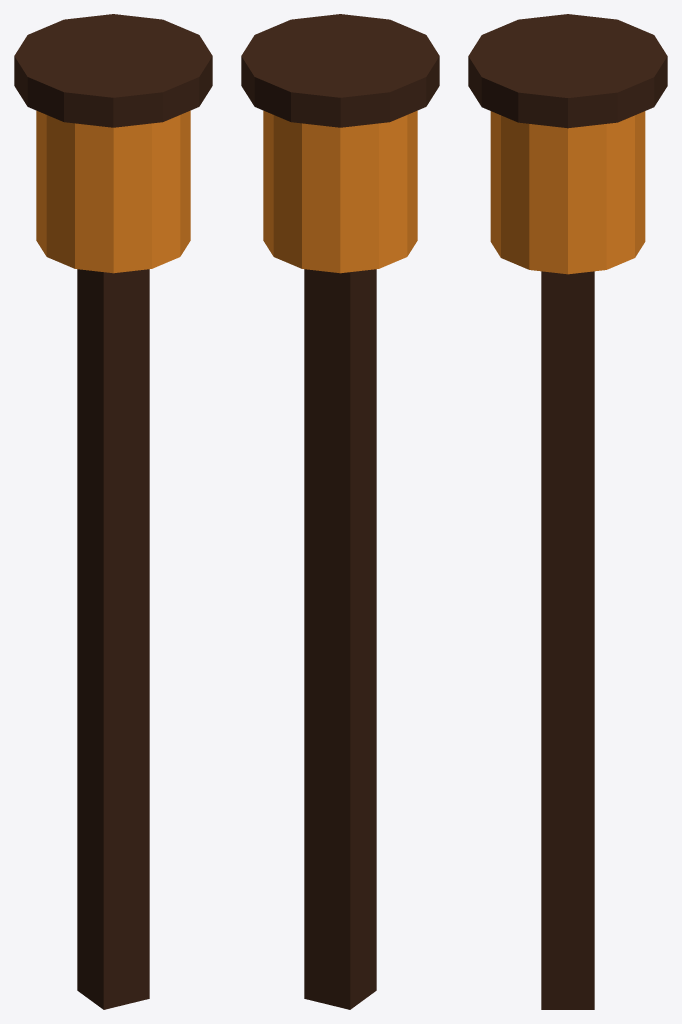
The model's file is LANTERN_POST_4.obj.
The picture shows the model from 3 angles, left to right: view 1: azimuth 30°, elevation 25°; view 2: azimuth 150°, elevation 25°; view 3: azimuth 270°, elevation 25°; orthographic projection.
Visible parts, largest first — view 1: LANTERN_POST_4; view 2: LANTERN_POST_4; view 3: LANTERN_POST_4.
Part boxes in pixels (x1,y1,x2,y2): LANTERN_POST_4: (14, 14, 212, 1009); LANTERN_POST_4: (241, 14, 439, 1009); LANTERN_POST_4: (468, 14, 667, 1009).
Size of the model in its own units: 0.9 by 4.7 by 0.9.
